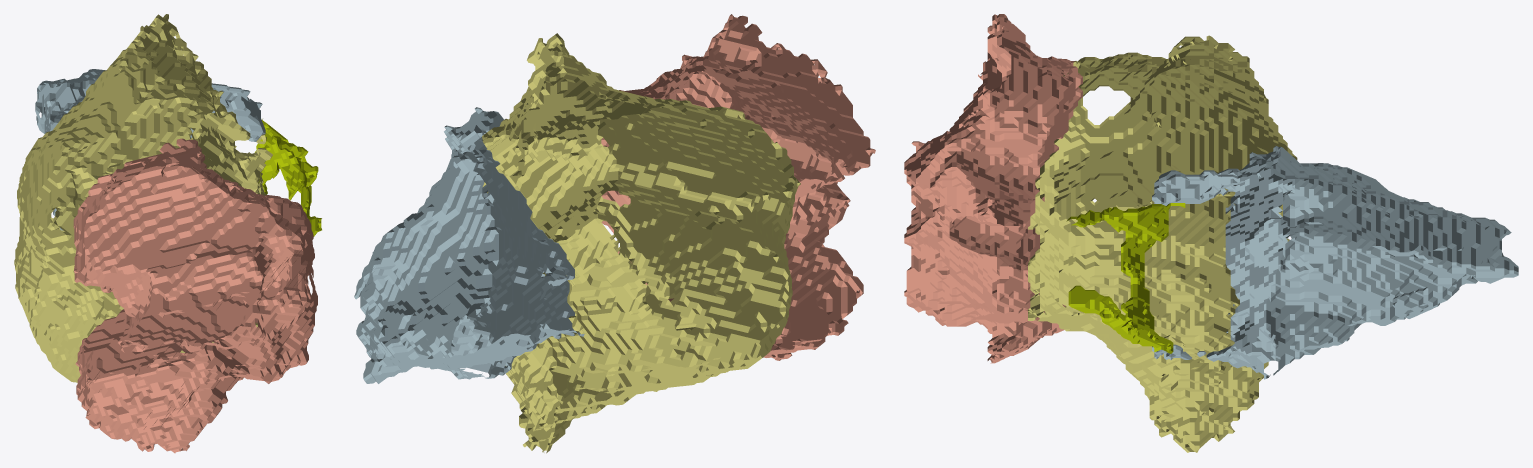
The model's file is brainstemSsLabels.glb.
3 views of the same model, side by side, from view 1: azimuth 30°, elevation 25°; view 2: azimuth 150°, elevation 25°; view 3: azimuth 270°, elevation 25° (orthographic). The views are drawn at different scales.
Parts seen in each view (by area): view 1: 173_Midbrain, 174_Pons, 175_Medulla, 178_SCP; view 2: 174_Pons, 175_Medulla, 173_Midbrain; view 3: 174_Pons, 175_Medulla, 173_Midbrain, 178_SCP.
Boxes of the visible parts, left/top/right/bottom form: 173_Midbrain: left=73, top=138, right=317, bottom=453; 174_Pons: left=14, top=14, right=272, bottom=382; 175_Medulla: left=35, top=69, right=265, bottom=230; 178_SCP: left=254, top=119, right=321, bottom=236; 174_Pons: left=482, top=33, right=800, bottom=453; 175_Medulla: left=354, top=107, right=584, bottom=383; 173_Midbrain: left=601, top=14, right=875, bottom=360; 174_Pons: left=1028, top=35, right=1297, bottom=452; 175_Medulla: left=1152, top=146, right=1518, bottom=379; 173_Midbrain: left=904, top=14, right=1082, bottom=363; 178_SCP: left=1066, top=203, right=1185, bottom=353.
Size of the model in its own units: 41.5 by 48 by 64.5.
